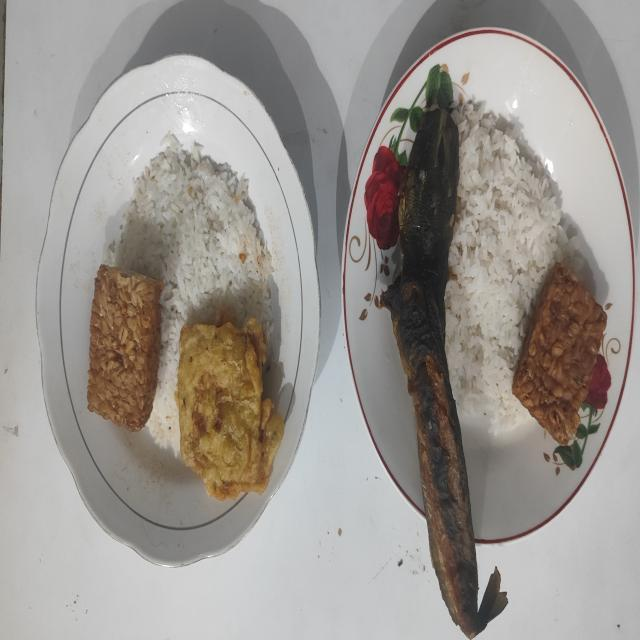nasi_putih: (104, 133, 279, 450), (444, 100, 584, 434)
tempe_goreng: (512, 263, 607, 445), (87, 264, 164, 430)
